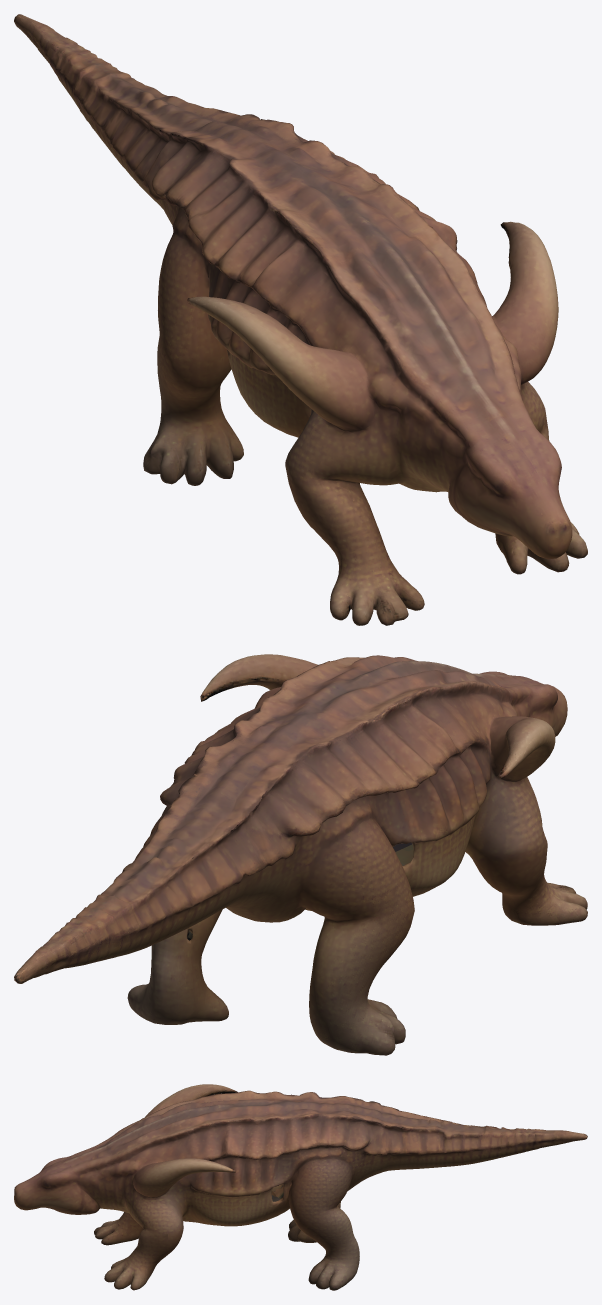
3 renders of one model, top to bottom at view 1: azimuth 30°, elevation 25°; view 2: azimuth 150°, elevation 25°; view 3: azimuth 270°, elevation 25°, orthographic. The views are drawn at different scales.
Parts seen in each view (by area): view 1: world; view 2: world; view 3: world.
Part boxes in pixels (x1,y1,x2,y2): world: [14, 14, 587, 625]; world: [14, 654, 587, 1055]; world: [14, 1084, 587, 1290].
Bounding box in the file's own units: 1.52 × 1.37 × 4.5.
Materials: 1 (1 with a texture image).
